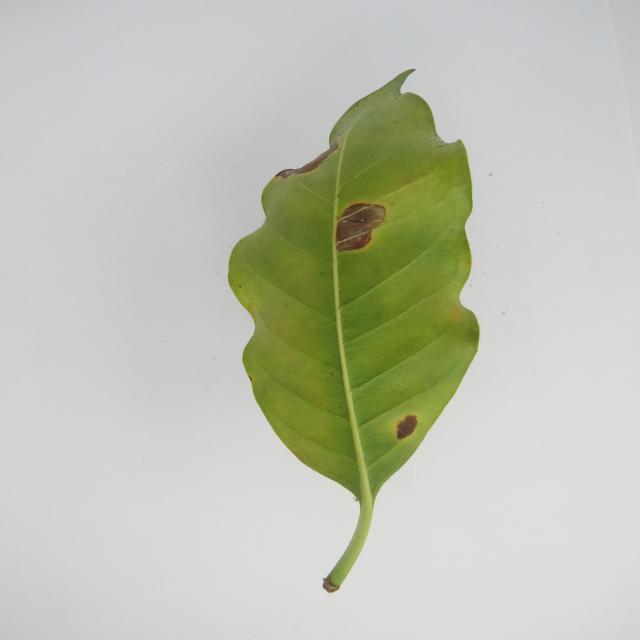DeficienciaNutricional-Potasio: (228, 71, 478, 592)
